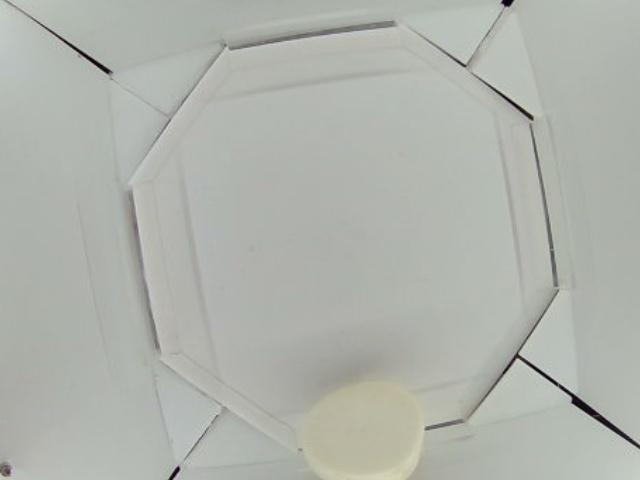Mooli: (305, 381, 425, 480)
